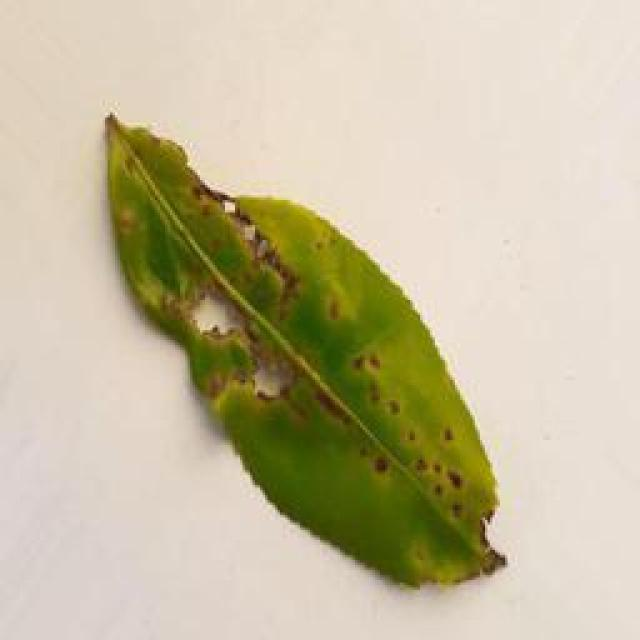Helopeltis: (99, 108, 515, 591)
